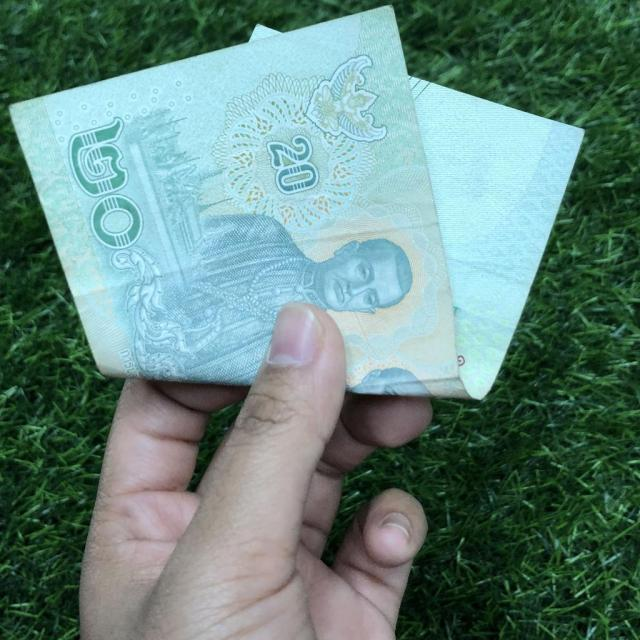THAI20: (11, 6, 584, 399)
